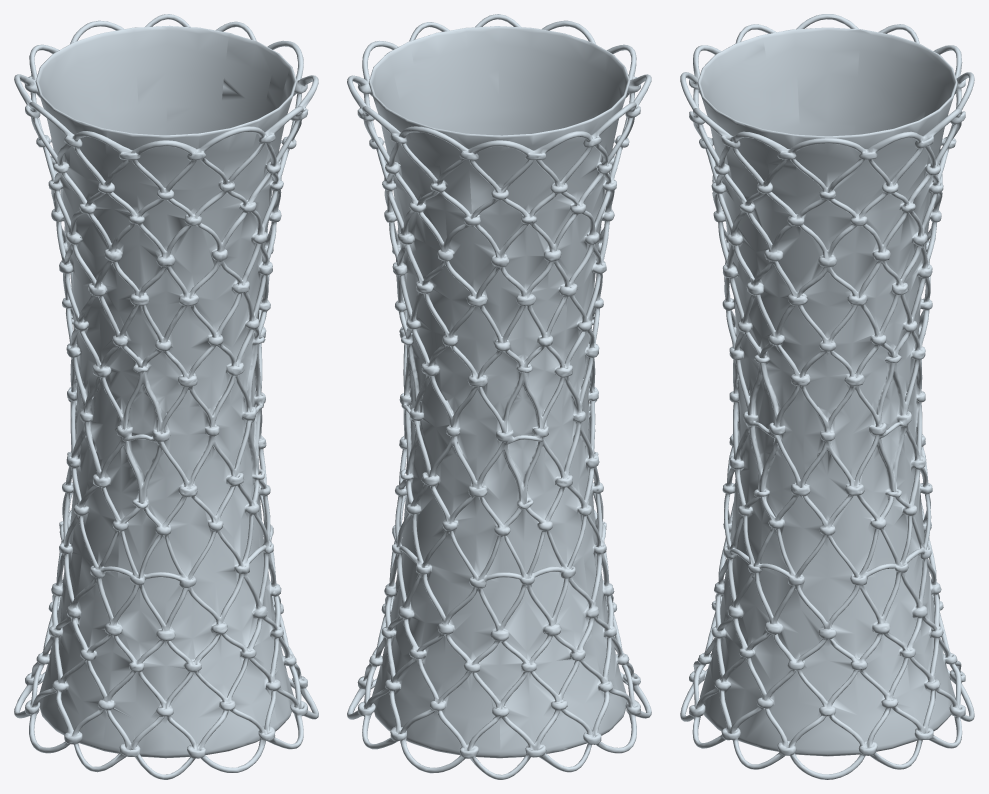
File: bonastent-hook-cross-covered.glb
The picture shows the model from 3 angles, left to right: view 1: azimuth 30°, elevation 25°; view 2: azimuth 150°, elevation 25°; view 3: azimuth 270°, elevation 25°; orthographic projection.
Visible parts, largest first — view 1: bonastent-hook-cross-covered-01; view 2: bonastent-hook-cross-covered-01; view 3: bonastent-hook-cross-covered-01.
Part boxes in pixels (box(x1,y1,x2,y2)): bonastent-hook-cross-covered-01: box(14, 14, 318, 779); bonastent-hook-cross-covered-01: box(347, 14, 651, 779); bonastent-hook-cross-covered-01: box(680, 14, 974, 779).
Size of the model in its own units: 0.8476 by 2 by 0.8326.
